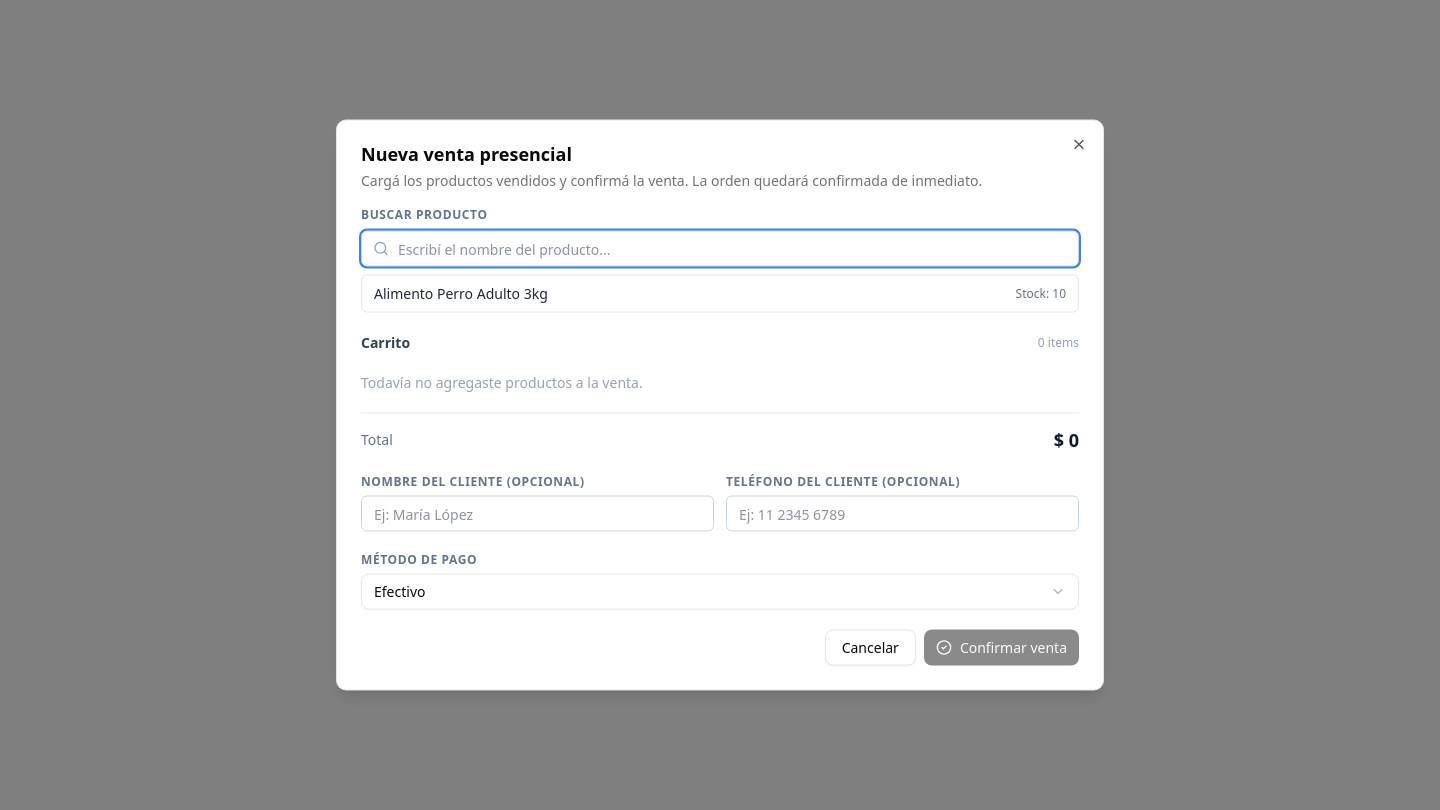
Scenario: ManualSaleDialog — badge de sobrante abierto › NO aparece cuando la bolsa no tiene sobrante
The width and height of the screenshot is (1440, 810).
Click the button "Alimento Perro Adulto 3kg Stock: 10" at (461, 293), box [362,276,1078,312]
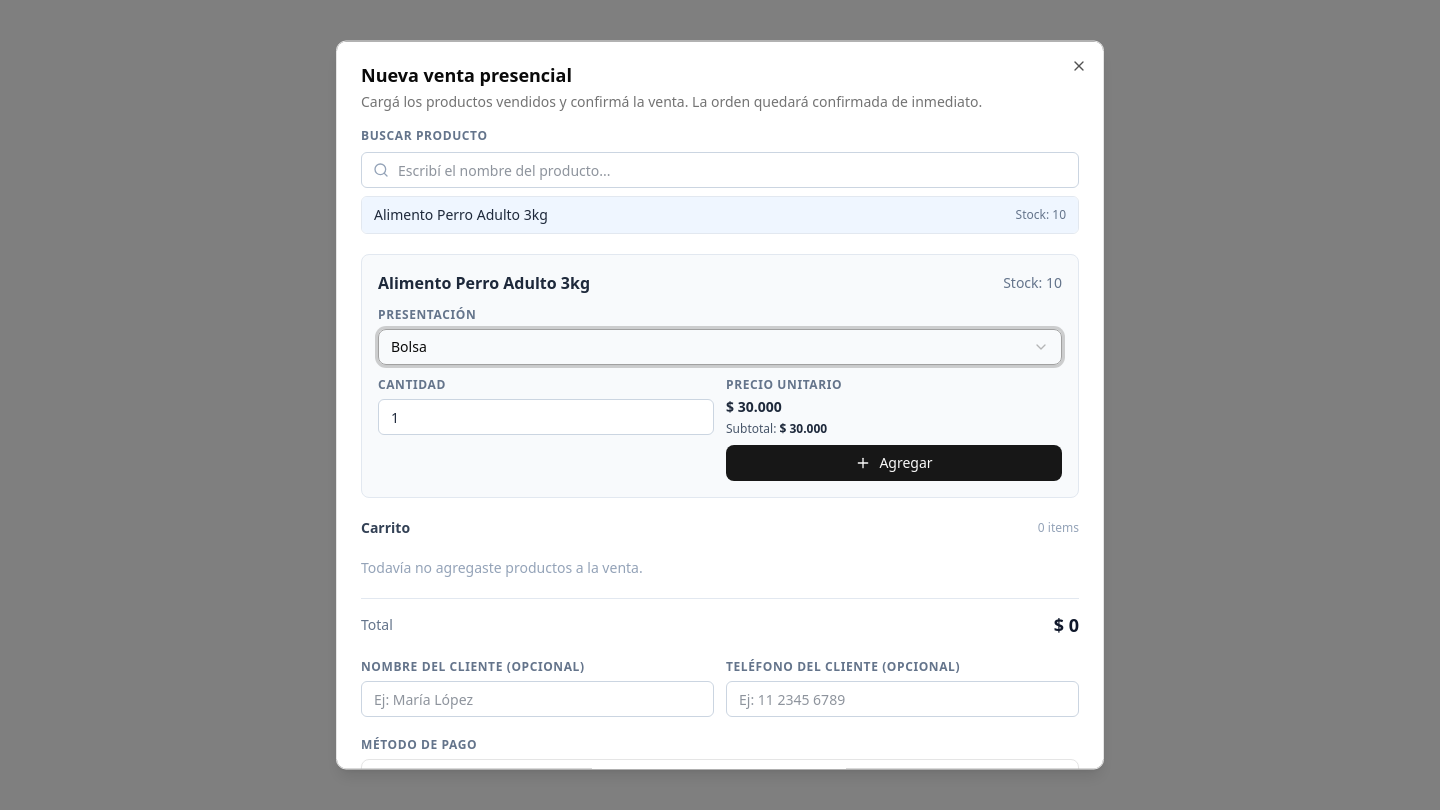
Press Enter
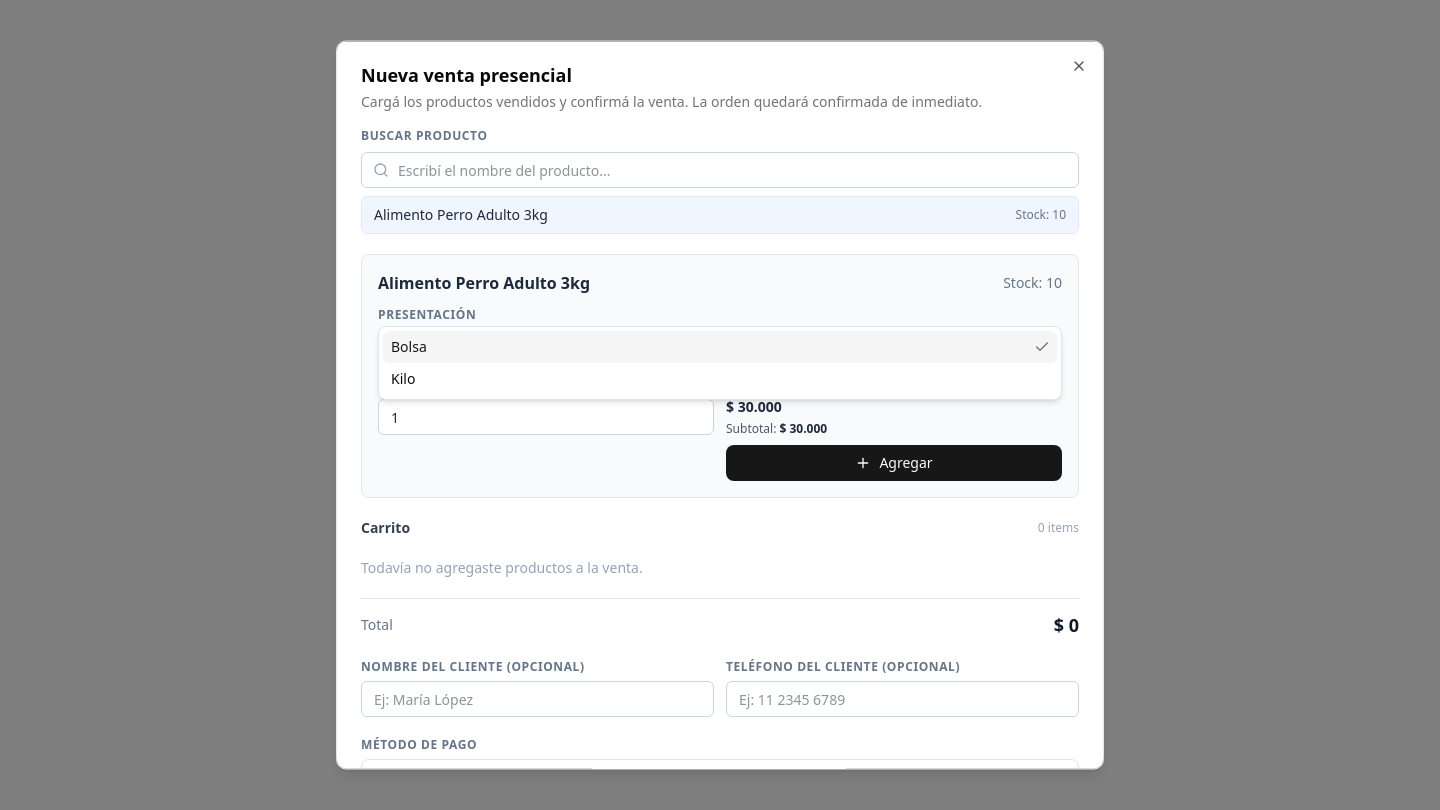
Click the option "Kilo" at (403, 378), box [391,368,415,388]
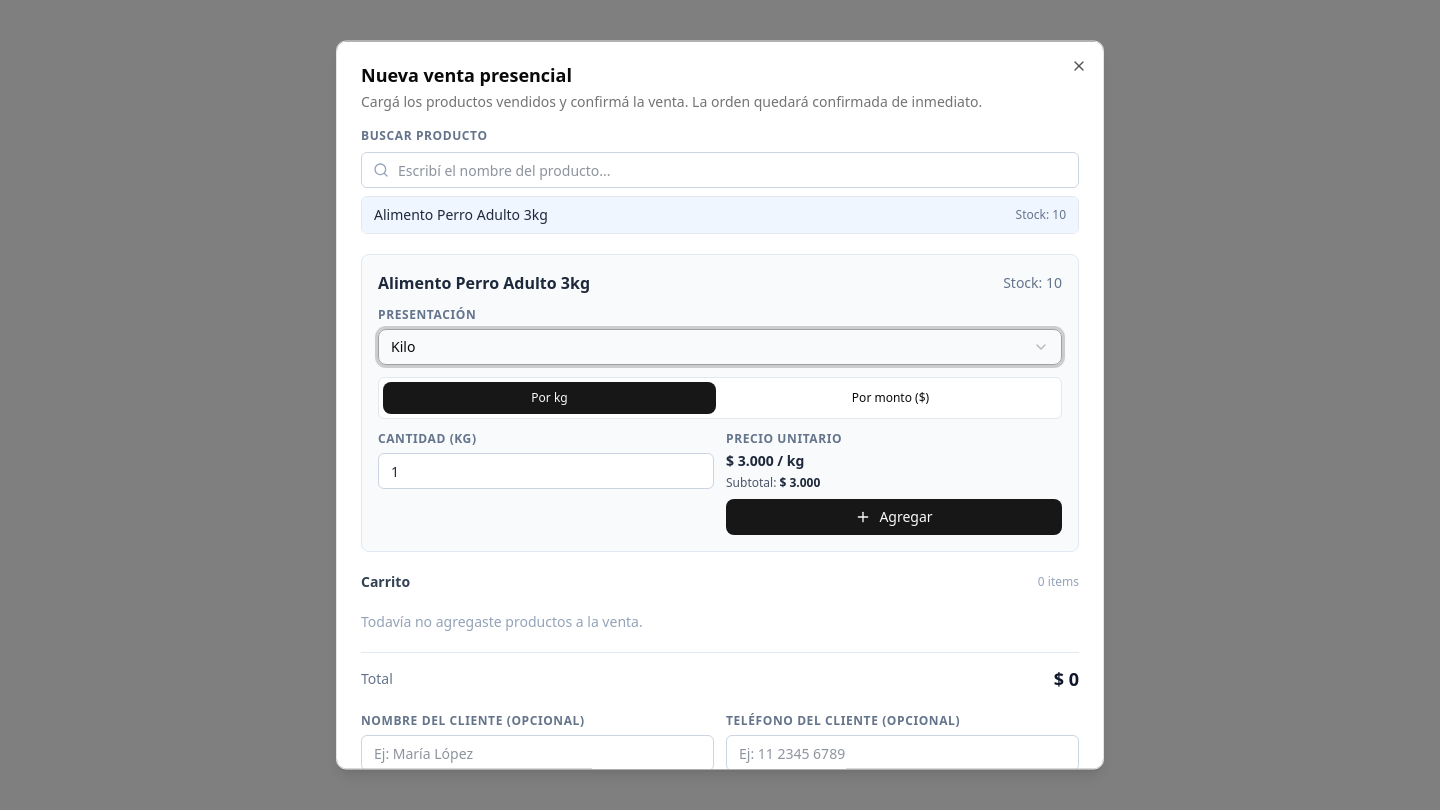
Expected: the dropdown labelled "Kilo" is shown, [378,328,1062,364]
